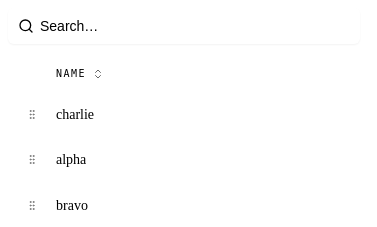
Test: drag-to-reorder › searching disables the grip
This screenshot has width=377, height=227.
In the search field: (184, 26) [8,8,360,44], type "a"
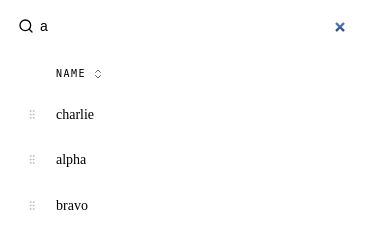
Expected: the button named "Reorder row" next to "charlie" is disabled, [20,102,44,126]
